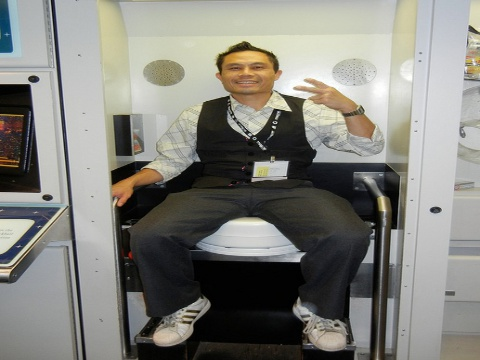hand: (292, 76, 347, 107)
